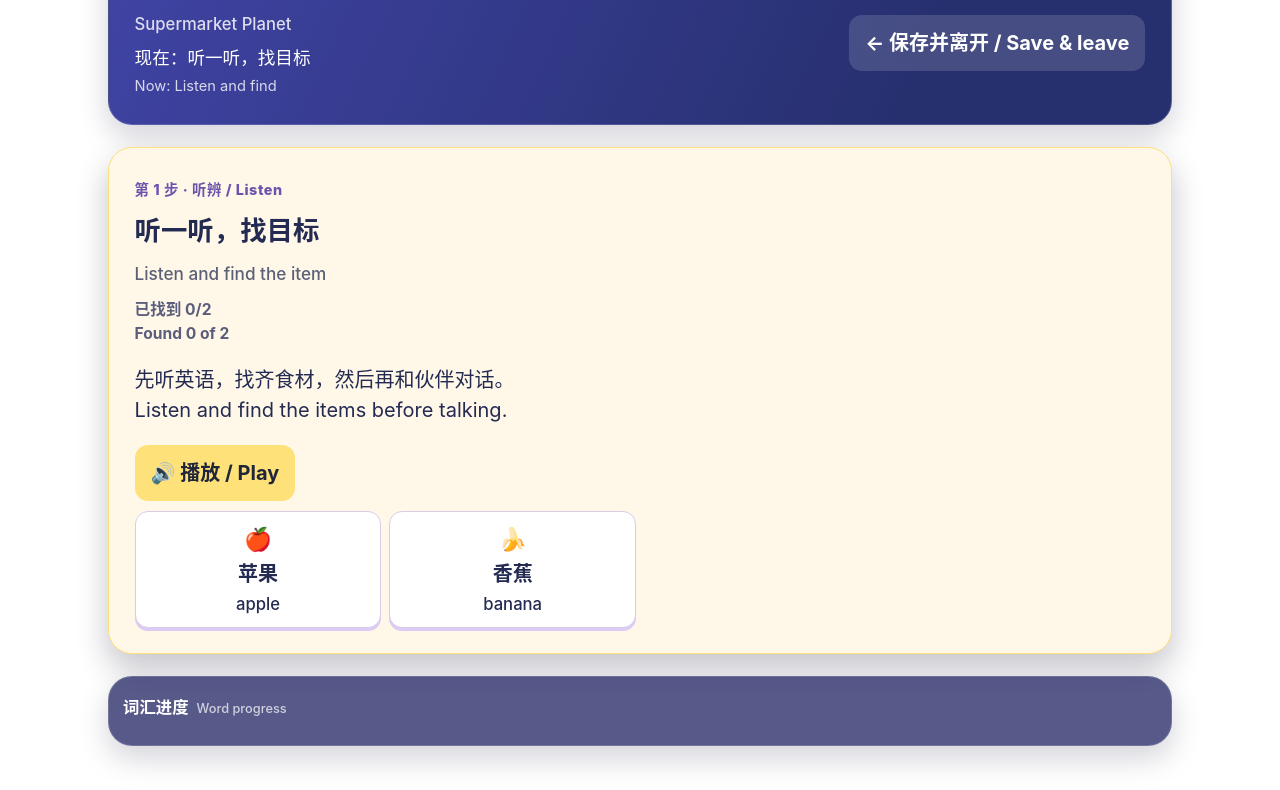
Scenario: reads the next listening item immediately after the first correct choice
The width and height of the screenshot is (1280, 790).
(page scrolled)
Click the button "🍎 苹果 apple" at (258, 569), box 135,511 -> 381,628
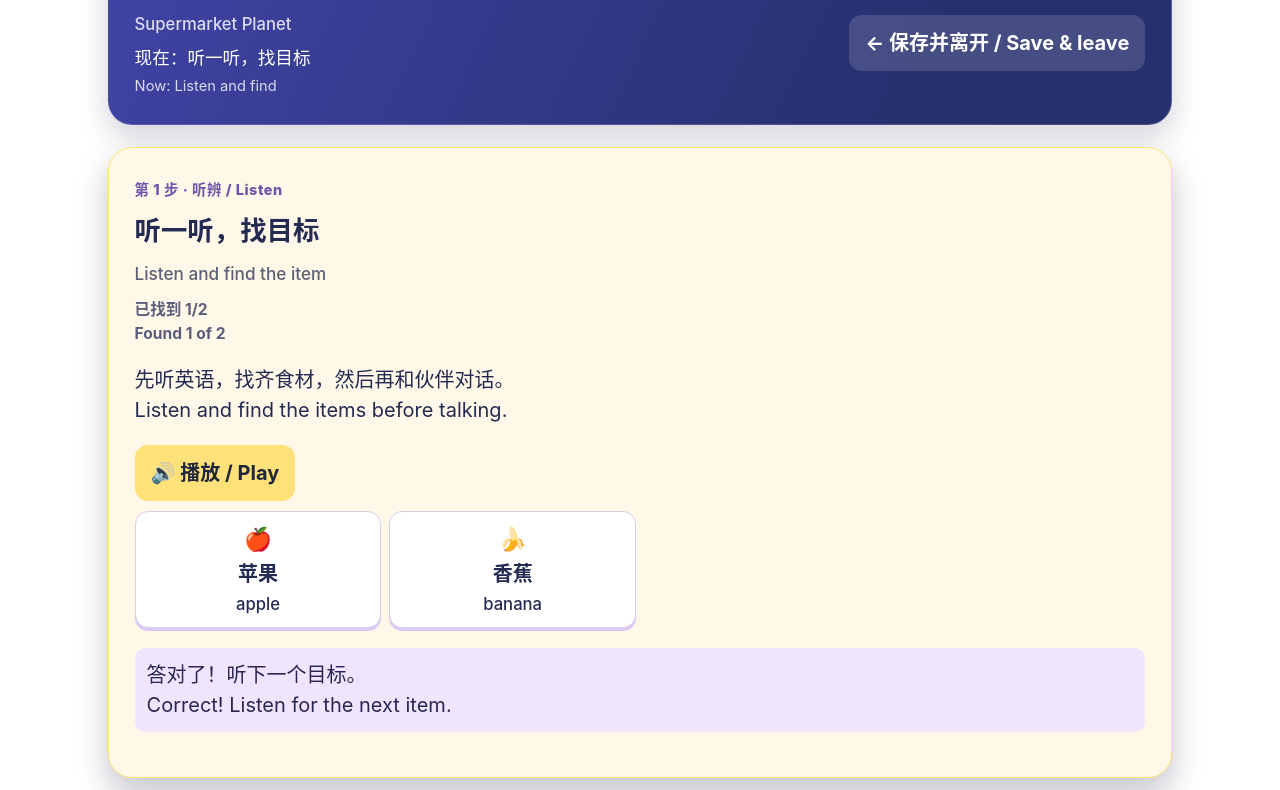
Now the text "Found 1 of 2" is shown, box 135,324 -> 226,343
